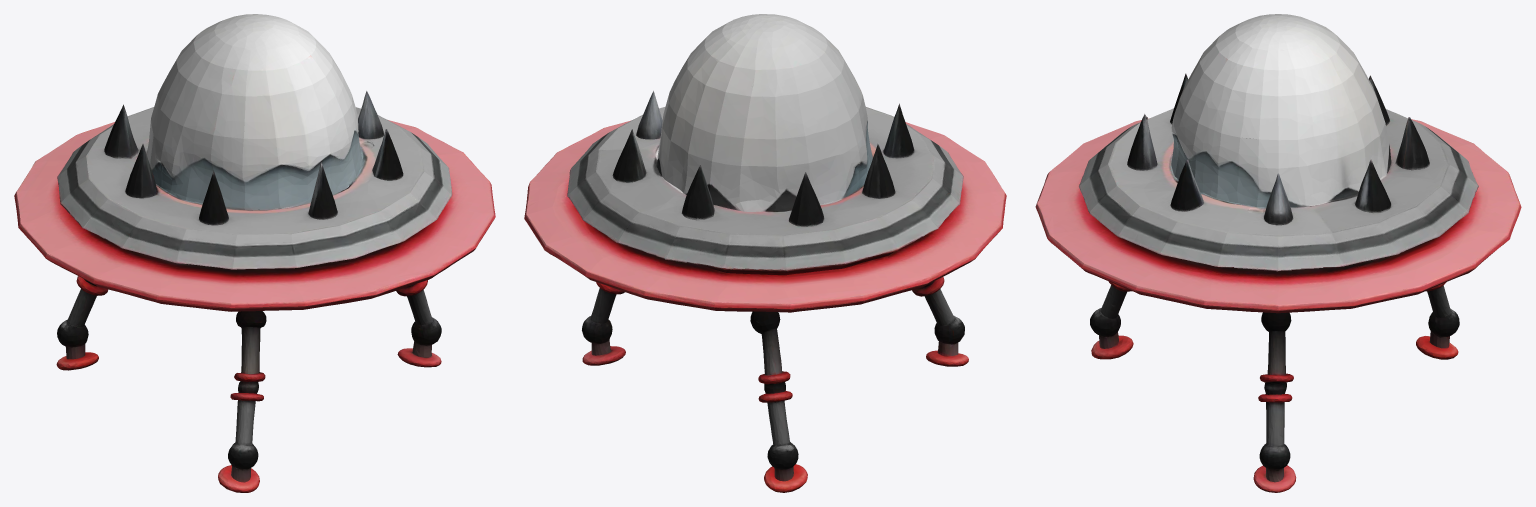
Rendered from partflow_t01.glb.
3 views of the same model, side by side, from view 1: azimuth 30°, elevation 25°; view 2: azimuth 150°, elevation 25°; view 3: azimuth 270°, elevation 25° (orthographic).
Visible parts, largest first — view 1: geometry_0; view 2: geometry_0; view 3: geometry_0.
Boxes of the visible parts, x1=… form: geometry_0: x1=14, y1=14, x2=495, y2=492; geometry_0: x1=524, y1=14, x2=1006, y2=492; geometry_0: x1=1035, y1=14, x2=1521, y2=492.
Bounding box in the file's own units: 2 × 1.74 × 2.
Materials: 1 (1 with a texture image).
